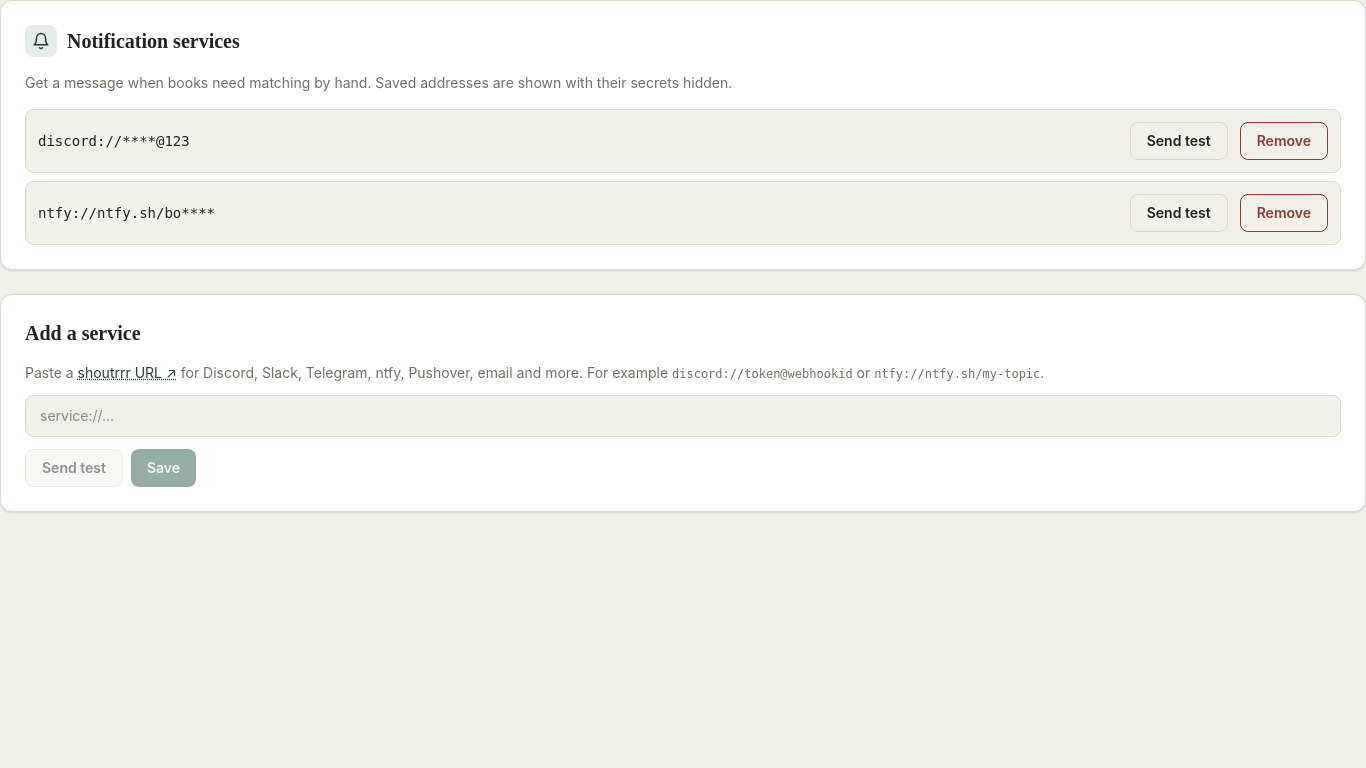
Test: NotificationsPage › shows a failed test inline
Check: the text "discord://****@123" is shown, box [38, 133, 190, 149]
Click the button "Send test" in the row of "discord://****@123": {"x": 1179, "y": 141} [1130, 122, 1228, 160]
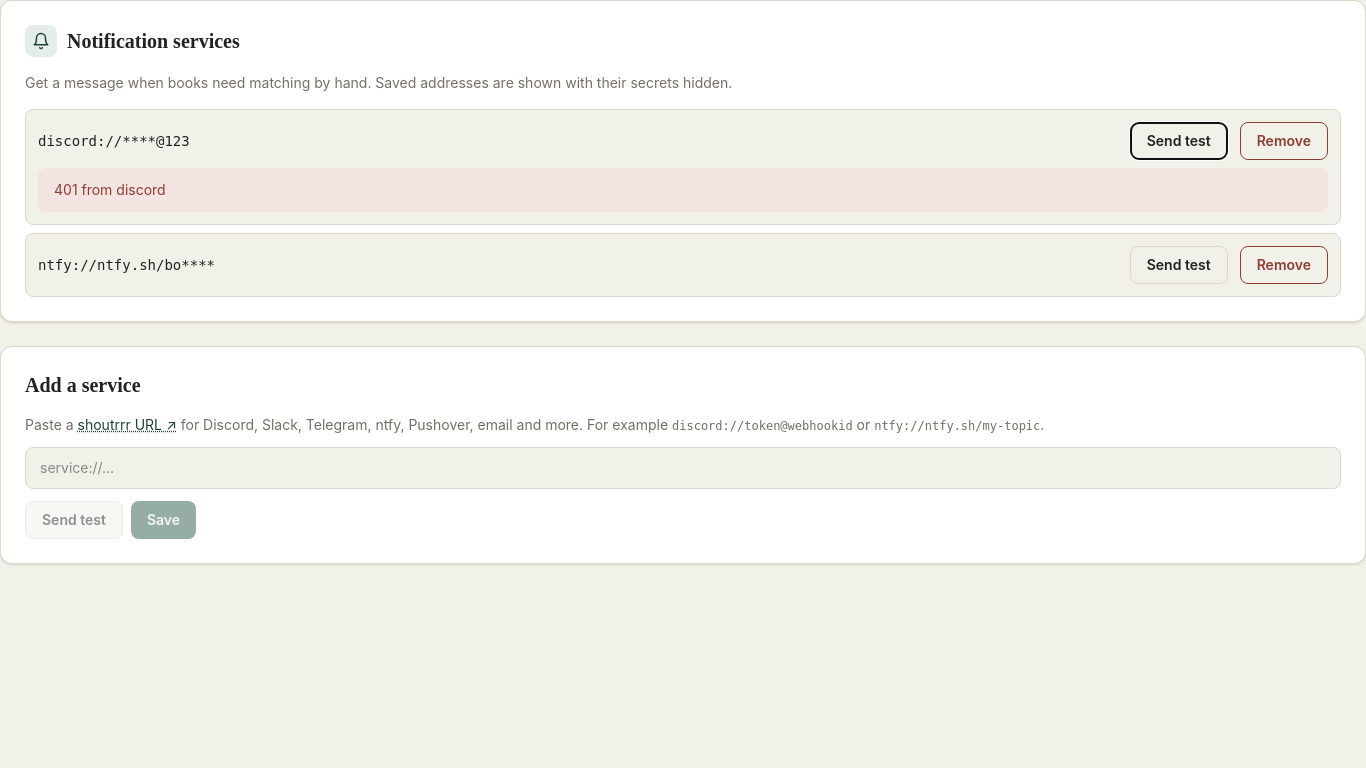
Check: the message reads "401 from discord", box [54, 181, 166, 198]
